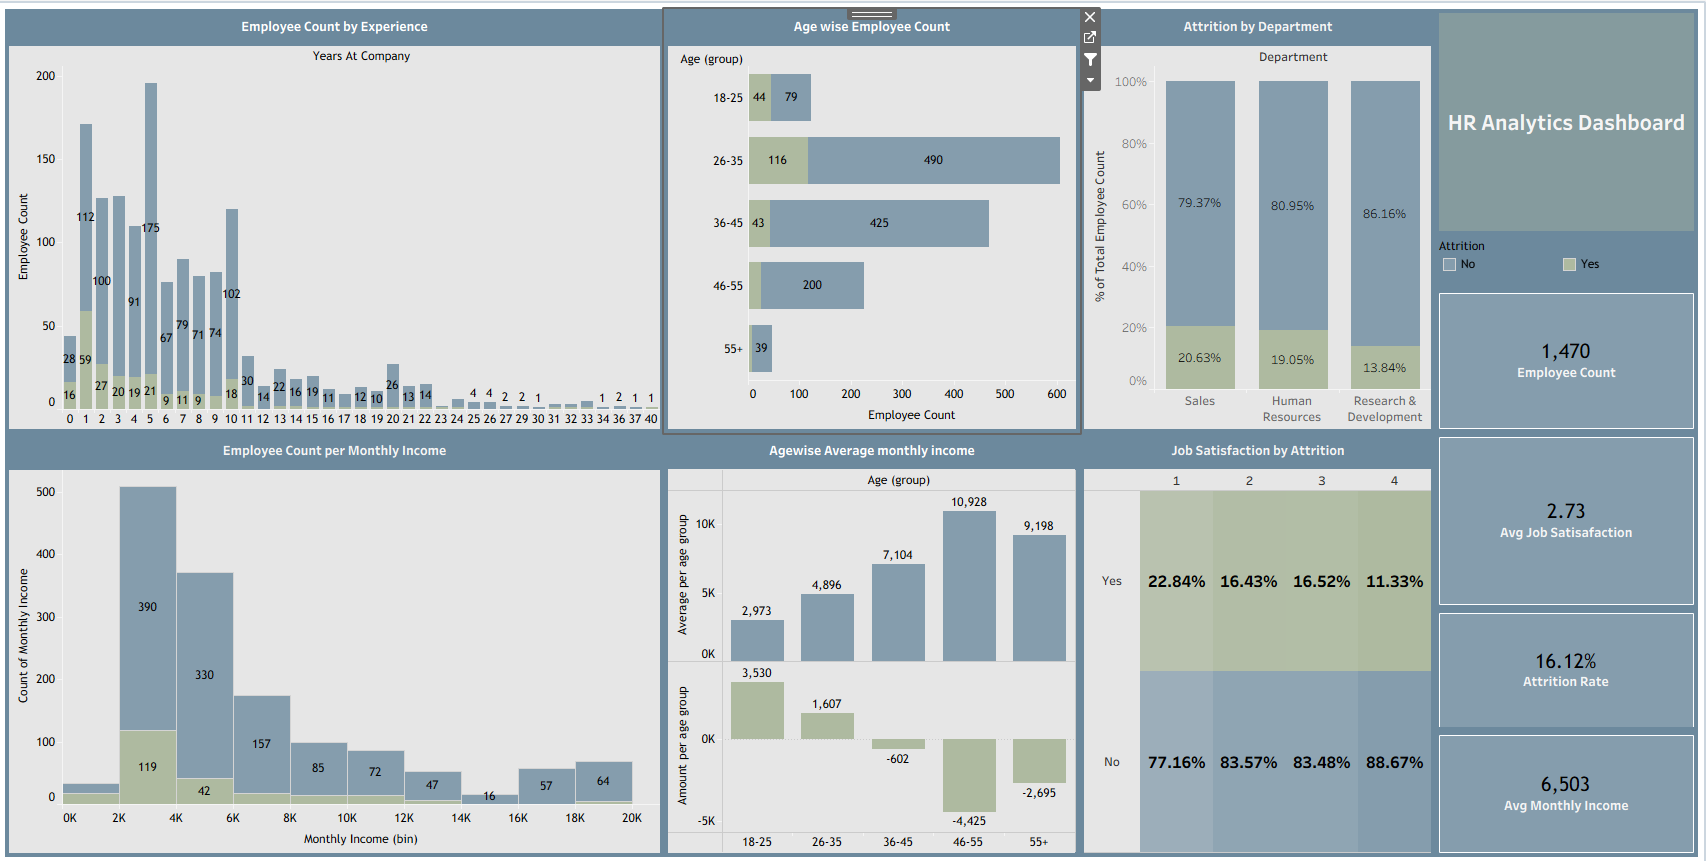

This screenshot's page, from the dashboard's own definition file:
{"tool":"tableau","page":{"name":"HR Analytics Dashboard","canvas":[1000,1000],"units":"permille","ordinal":0},"visuals":[{"type":"worksheet","title":"Emplyee Count per Experience","mark":"Automatic","rows":["EmployeeCount"],"cols":["YearsAtCompany"],"box":[4.7,9.3,385.5,490.4]},{"type":"worksheet","title":"Age wise Employee Count","mark":"Automatic","cols":["EmployeeCount"],"box":[390.2,9.3,243.4,490.6]},{"type":"worksheet","title":"Attrition by Department","mark":"Automatic","cols":["Department"],"box":[633.6,9.3,208.2,490.6]},{"type":"text","box":[841.7,9.3,153.6,261.1]},{"type":"legend","title":"Emplyee Count per Monthly Income","param":"[federated.0w8r6vr046z22g190zhyi1s6c9sp].[none:Attrition:nk]","box":[841.7,270.4,153.6,62.8]},{"type":"worksheet","title":"Employee Count","mark":"Automatic","box":[841.7,333.2,153.6,166.7]},{"type":"worksheet","title":"Emplyee Count per Monthly Income","mark":"Automatic","rows":["MonthlyIncome"],"cols":["Monthly Income (bin)"],"box":[4.7,499.7,385.5,491]},{"type":"worksheet","title":"Age wise Average monthly income","mark":"Automatic","rows":["Calculation_98516266839044097","Calculation_98516266839433218"],"box":[390.2,499.9,243.4,490.9]},{"type":"worksheet","title":"Job Satisfaction by Attrition","mark":"Square","rows":["Attrition"],"cols":["JobSatisfaction"],"box":[633.6,499.9,208.2,490.9]},{"type":"worksheet","title":"Avg Job Satisfaction","mark":"Automatic","box":[841.7,499.9,153.6,203.7]},{"type":"worksheet","title":"Attrition Rate","mark":"Automatic","box":[841.7,703.6,153.6,141.8]},{"type":"worksheet","title":"Avg Monthly Income","mark":"Automatic","box":[841.7,845.4,153.6,145.3]}]}

Visuals, with their boxes on the dashboard's canvas, which has no fixed pixel size, in thousandths of its width and height (x1, y1, x2, y2). These are canvas units, not pixel positions in the 1706x861 screenshot, which may show the page scaled, cropped or inside an application window:
"Emplyee Count per Experience" worksheet: x1=5 y1=9 x2=390 y2=500
"Age wise Employee Count" worksheet: x1=390 y1=9 x2=634 y2=500
"Attrition by Department" worksheet: x1=634 y1=9 x2=842 y2=500
text: x1=842 y1=9 x2=995 y2=270
"Emplyee Count per Monthly Income" legend: x1=842 y1=270 x2=995 y2=333
"Employee Count" worksheet: x1=842 y1=333 x2=995 y2=500
"Emplyee Count per Monthly Income" worksheet: x1=5 y1=500 x2=390 y2=991
"Age wise Average monthly income" worksheet: x1=390 y1=500 x2=634 y2=991
"Job Satisfaction by Attrition" worksheet (Square marks): x1=634 y1=500 x2=842 y2=991
"Avg Job Satisfaction" worksheet: x1=842 y1=500 x2=995 y2=704
"Attrition Rate" worksheet: x1=842 y1=704 x2=995 y2=845
"Avg Monthly Income" worksheet: x1=842 y1=845 x2=995 y2=991
